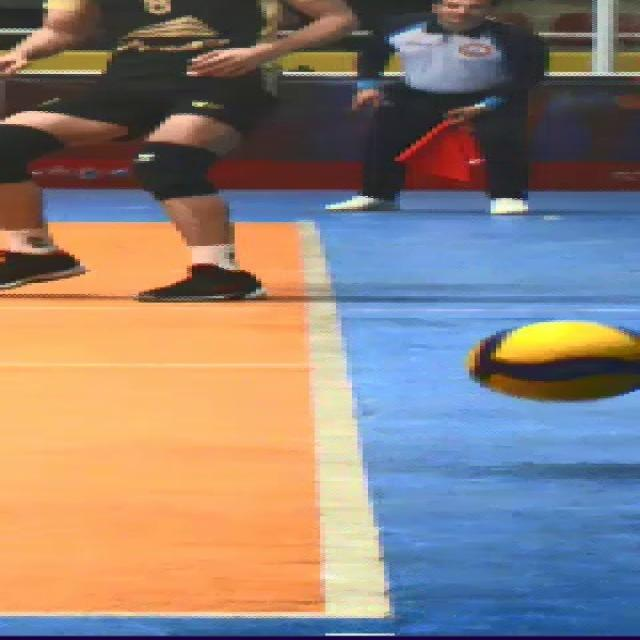Volleyball: (465, 320, 640, 400)
